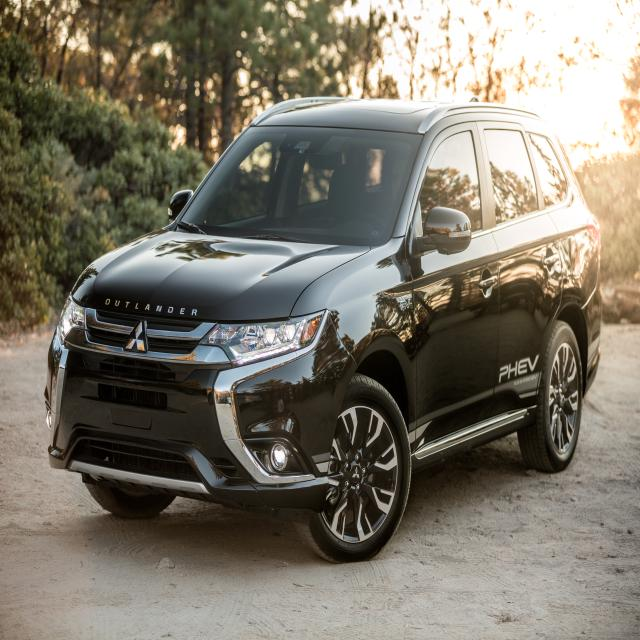light_vehicle: (44, 94, 603, 563)
